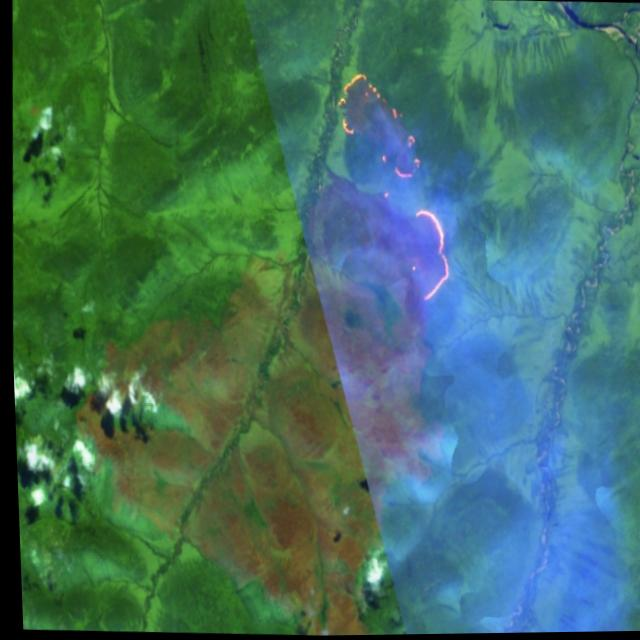fire: (324, 74, 460, 307)
